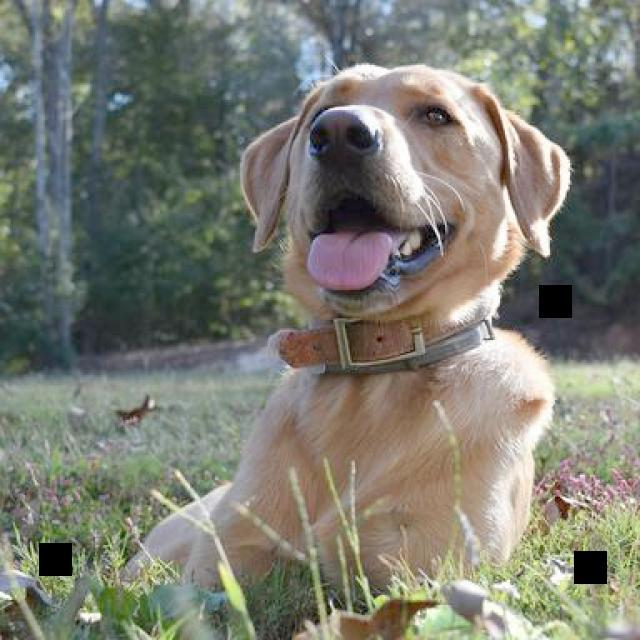adult_dog: (112, 57, 571, 598)
